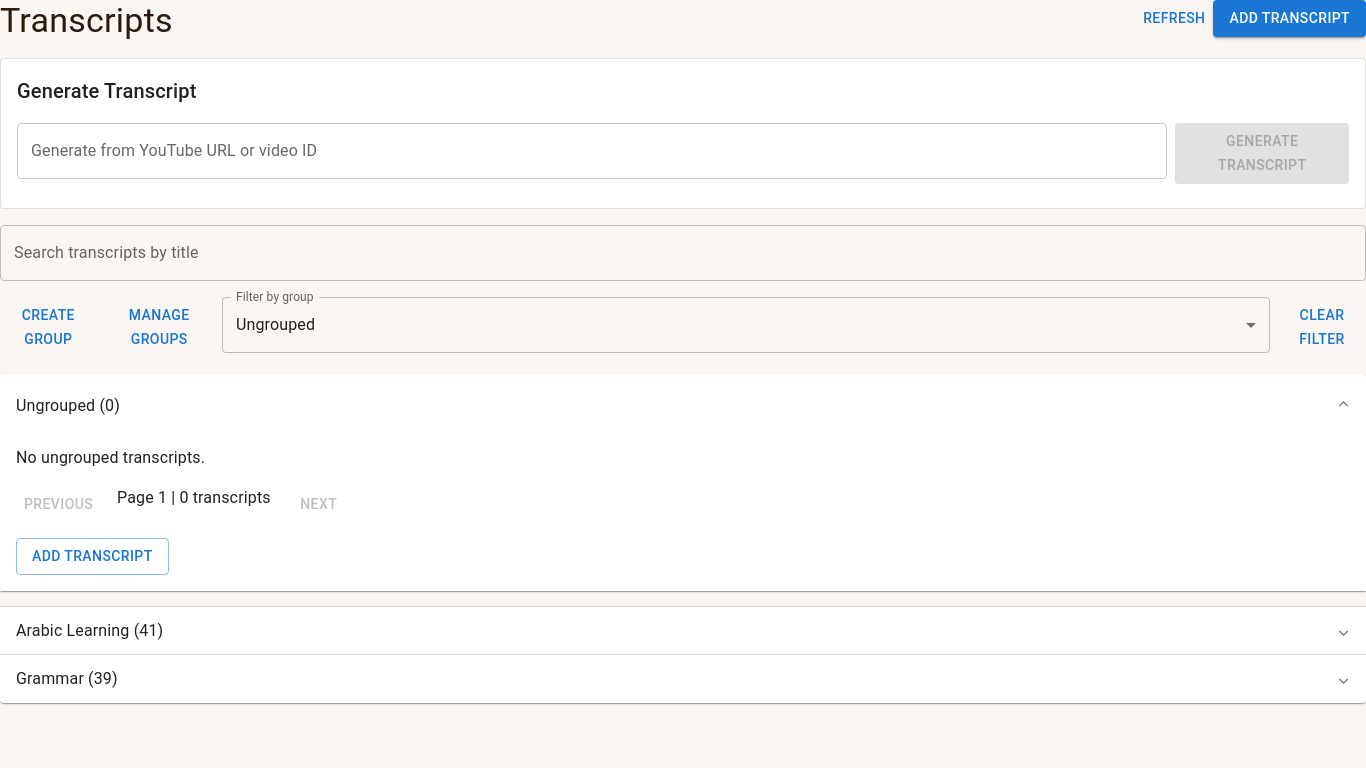
Scenario: opens Add Transcript inside a flat group with that group preselected
Click the button "Arabic Learning (41) ⌄". click: (73, 630)
box: [0,607,1365,655]
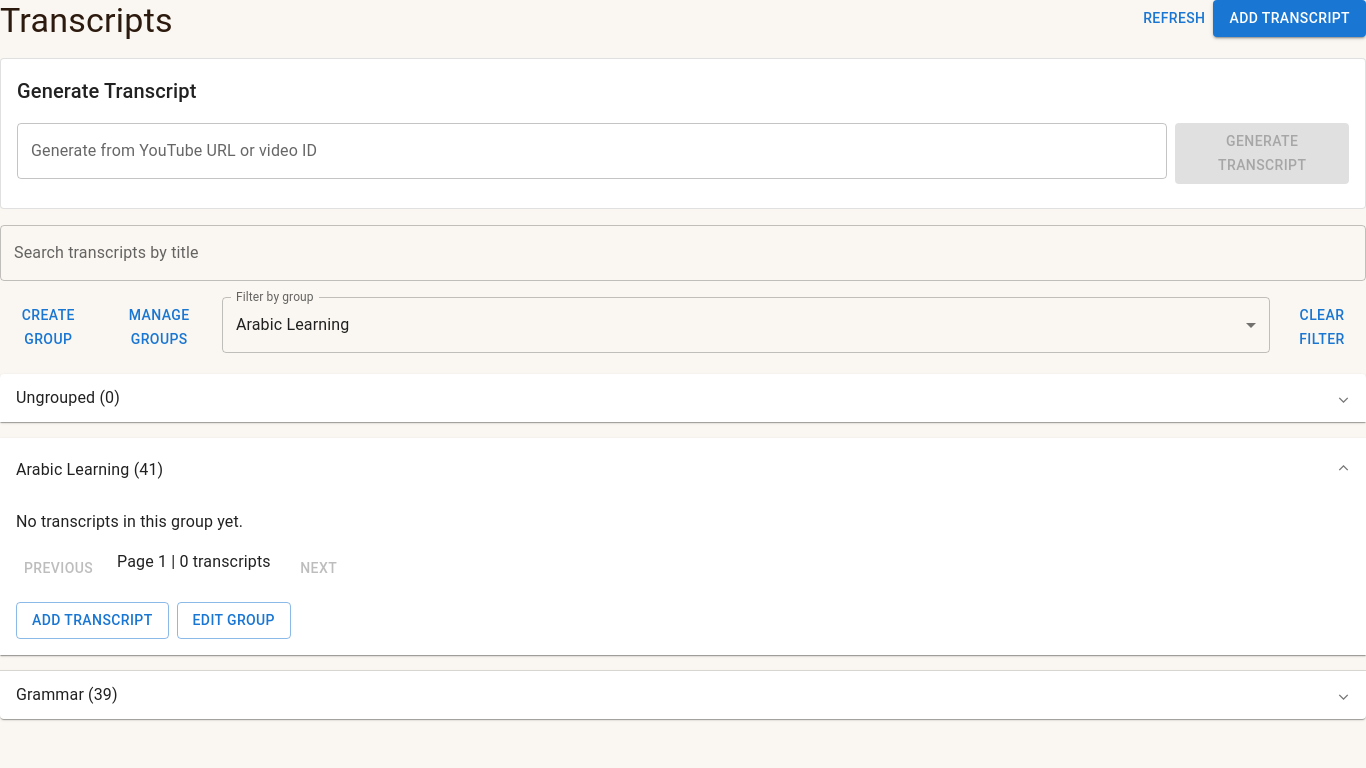
Result: the text "No transcripts in this group yet." is shown at [16,512,243,531]
Click the button "Add Transcript" below "Page". click: (92, 621)
box: [16,602,168,639]
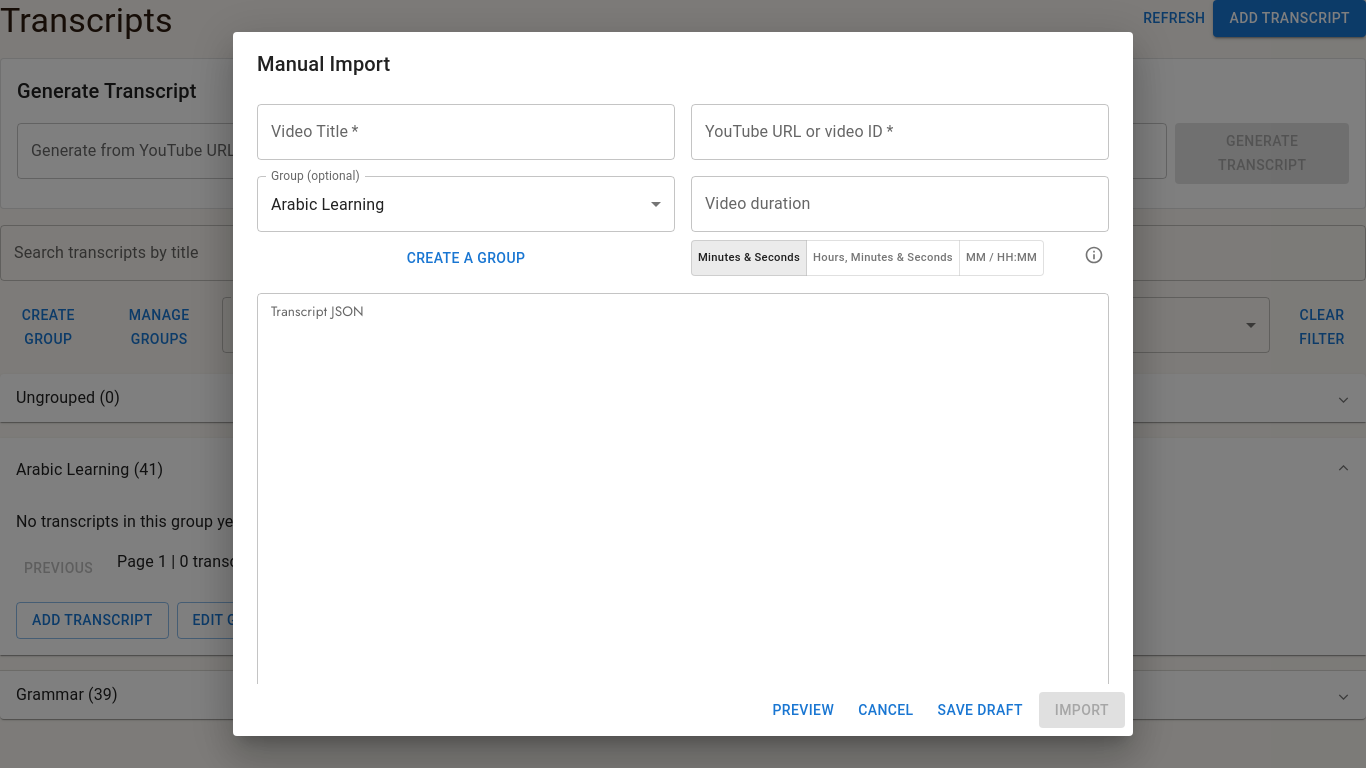
Result: the dropdown labelled "Group (optional)" shows "Arabic Learning" at [257,176,675,232]
